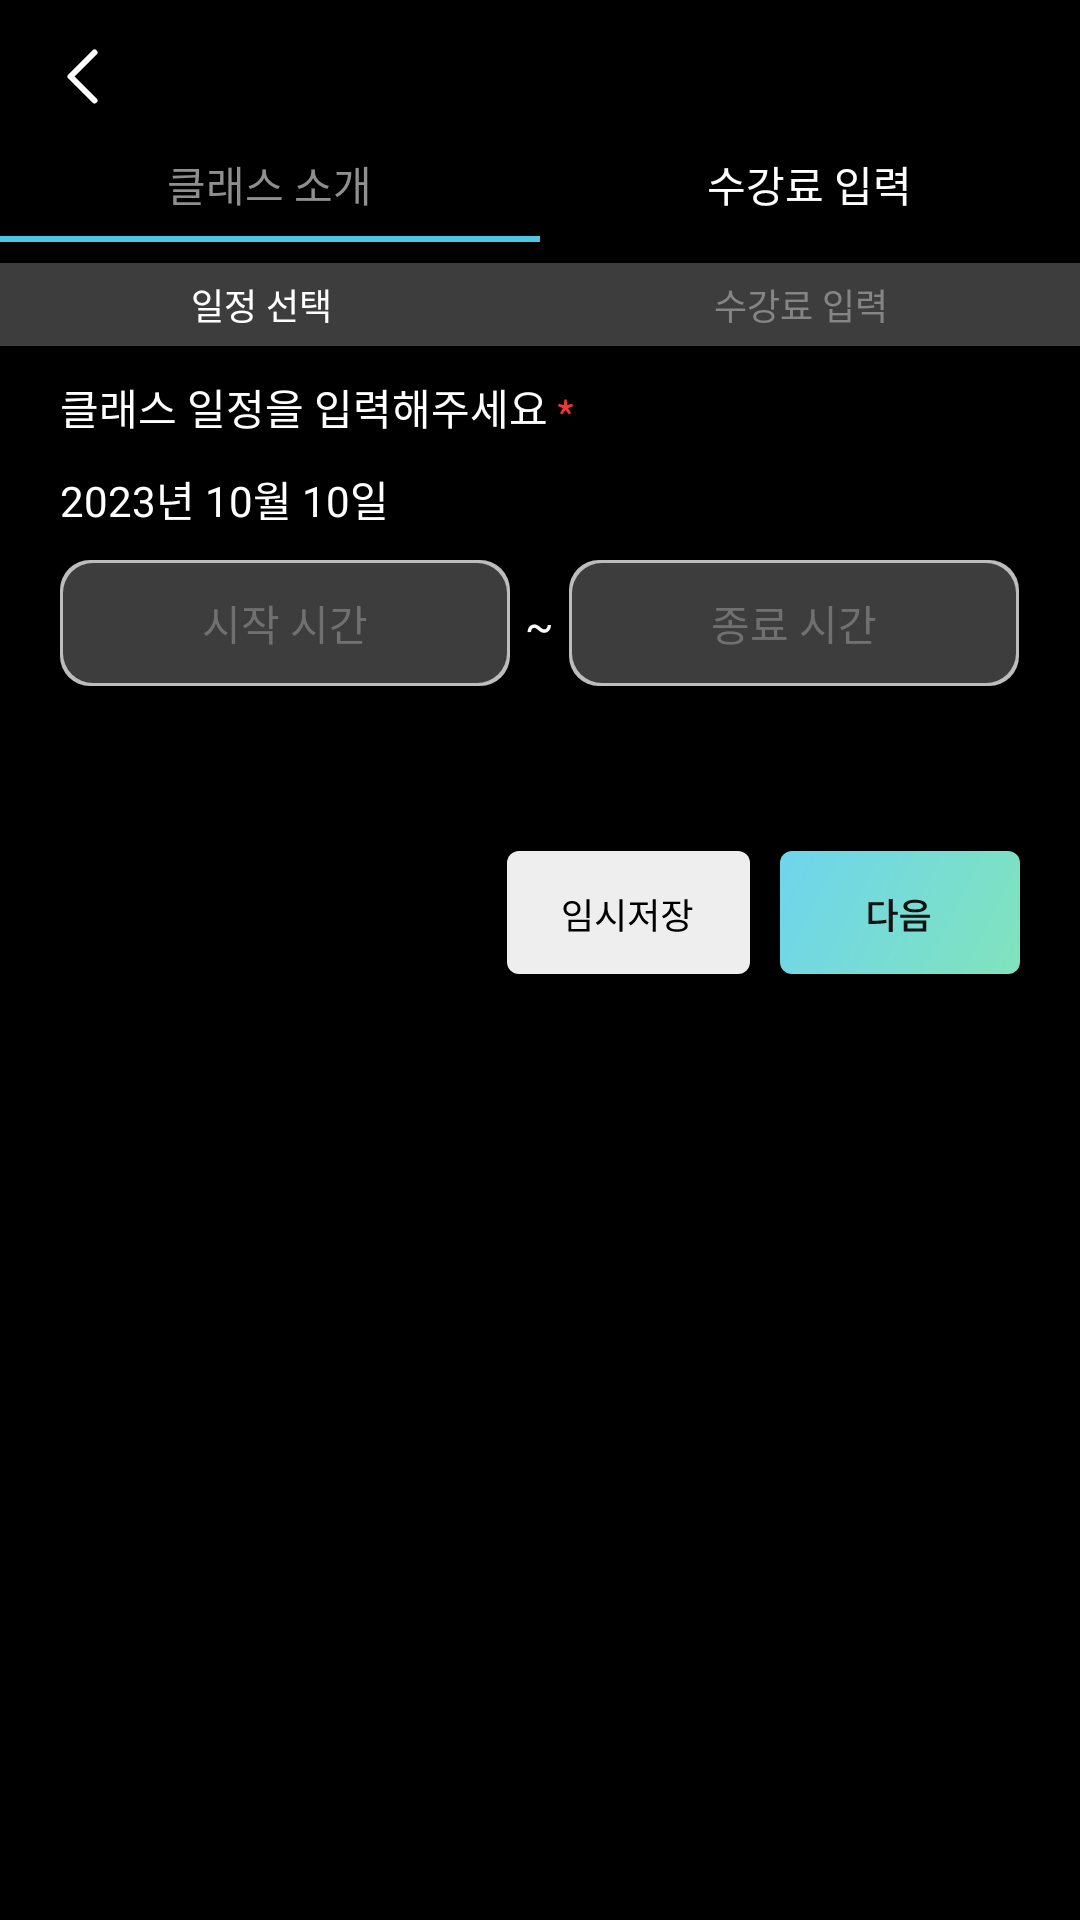

Icons on this 1080 × 1920 Android screen, each with its box as detection(x1, y1, x2, y2):
back key: detection(67, 49, 98, 104)
